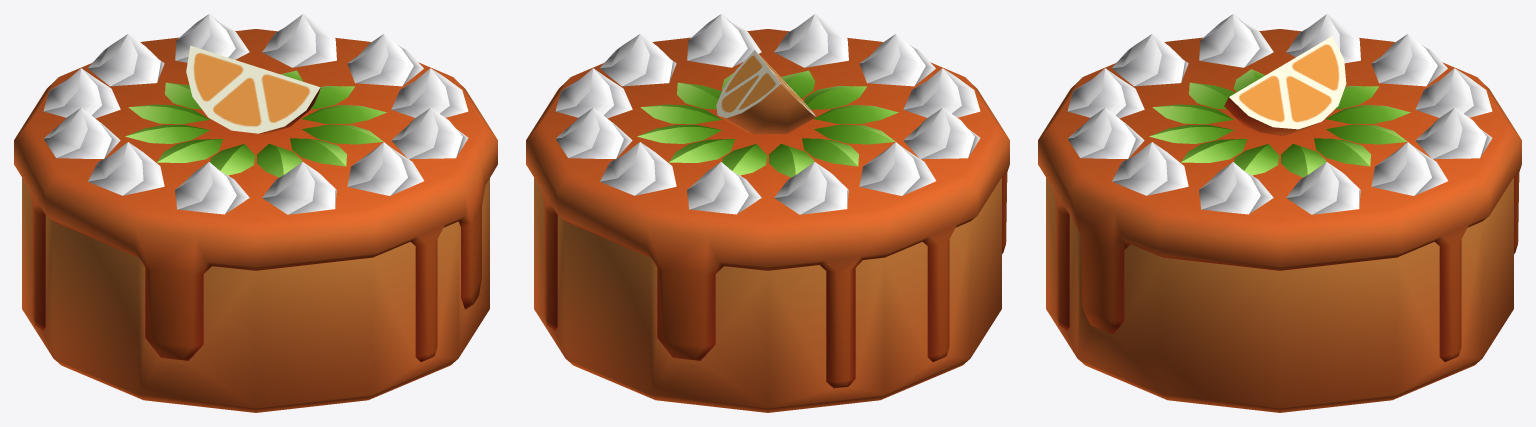
Rendered from m_OrangeCake01.fbx.
The picture shows the model from 3 angles, left to right: view 1: azimuth 30°, elevation 25°; view 2: azimuth 150°, elevation 25°; view 3: azimuth 270°, elevation 25°; orthographic projection.
Visible parts, largest first — view 1: m_OrangeCake01; view 2: m_OrangeCake01; view 3: m_OrangeCake01.
Boxes of the visible parts, bbox=[...] form: m_OrangeCake01: bbox=[14, 14, 497, 412]; m_OrangeCake01: bbox=[526, 14, 1009, 412]; m_OrangeCake01: bbox=[1038, 14, 1521, 412].
Bounding box in the file's own units: 26.07 × 15.62 × 26.07.
